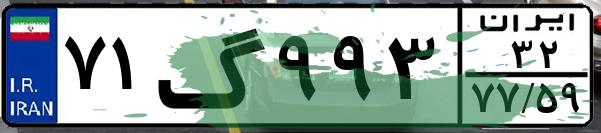1: (110, 28, 156, 98)
2: (537, 27, 568, 80)
3: (385, 28, 445, 110), (508, 27, 537, 80)
5: (535, 70, 560, 125)
7: (57, 26, 110, 100), (470, 70, 495, 125), (495, 70, 520, 125)
9: (270, 28, 330, 110), (330, 28, 385, 110), (560, 70, 590, 125)
گ: (156, 12, 270, 120)
